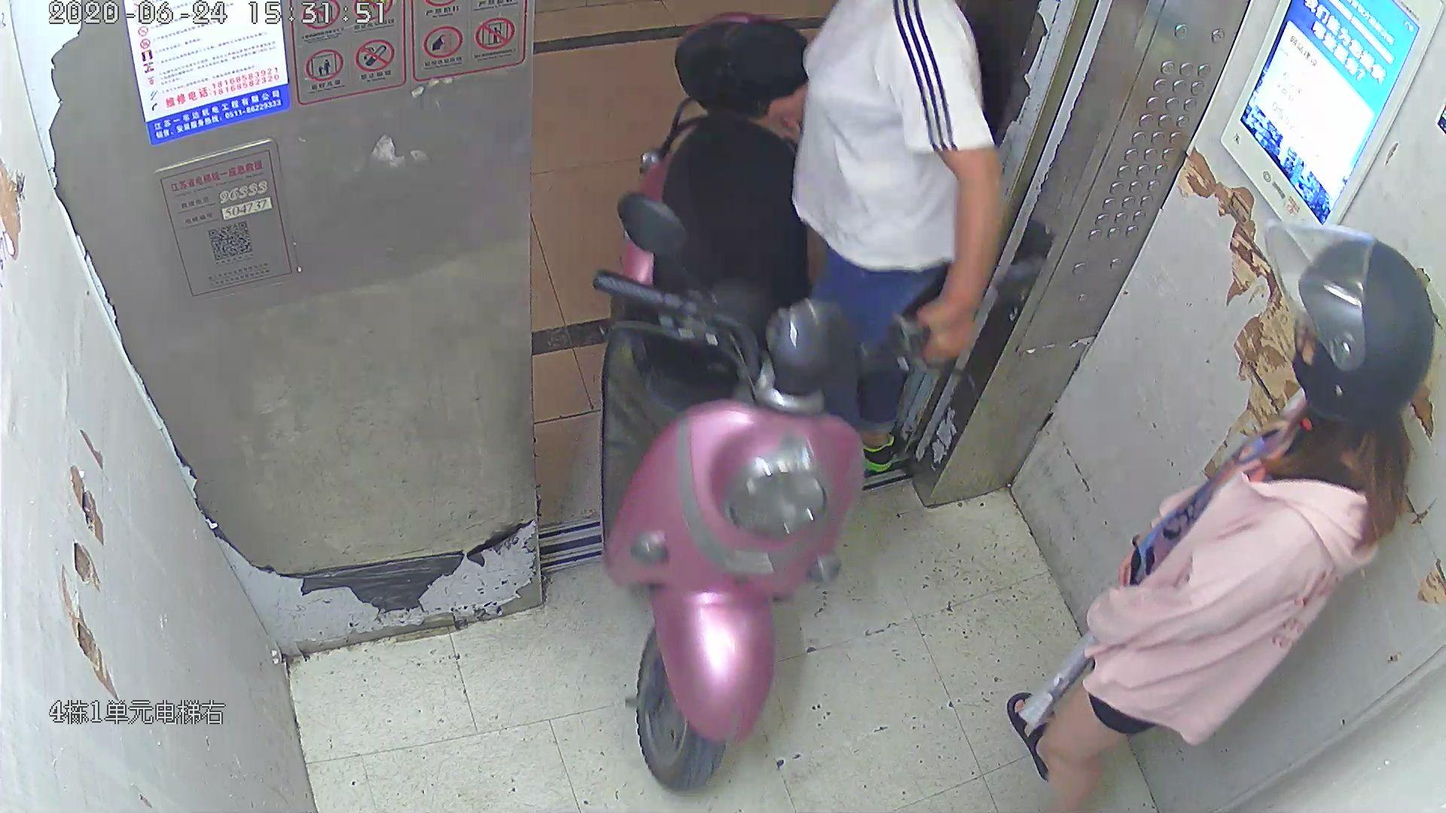Electric-bicycle: (584, 0, 930, 792)
